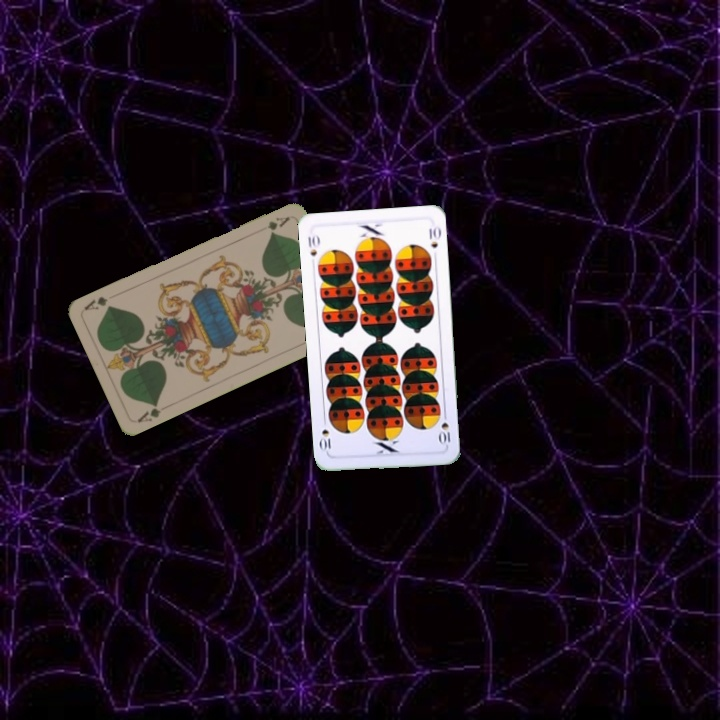GA: (253, 213, 292, 236), (133, 398, 164, 425)
S10: (436, 408, 453, 447), (304, 231, 322, 259)
